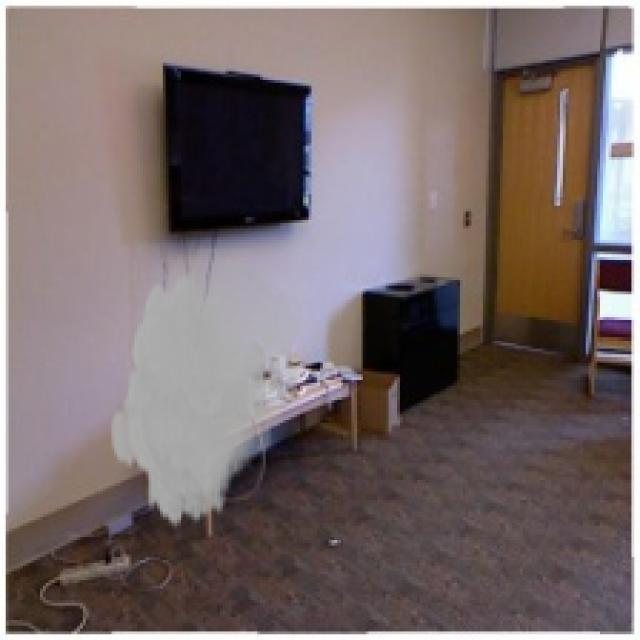Smoke: (109, 248, 308, 532)
